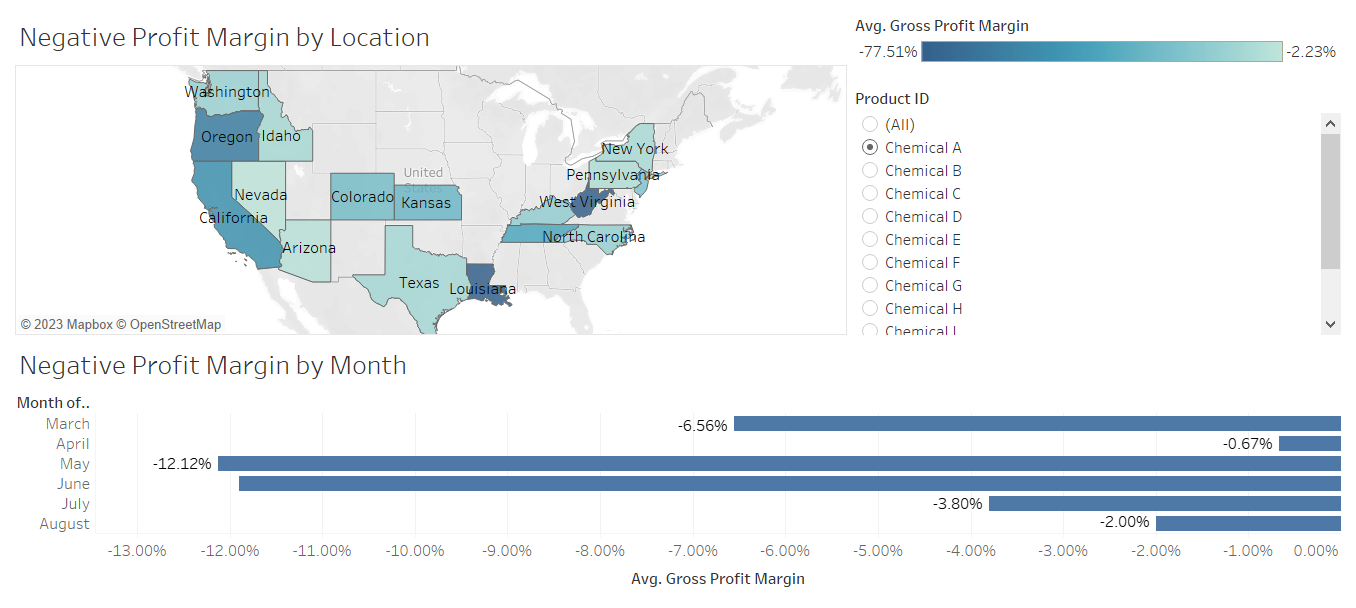

What the dashboard file says about the page in this screenshot:
{"tool":"tableau","page":{"name":"Negative Profit Margin","canvas":[1000,1000],"units":"permille","ordinal":3},"visuals":[{"type":"worksheet","title":"Negative Profit Margin by Location","mark":"Automatic","box":[6.3,14.1,660.4,537.9]},{"type":"legend","title":"Negative Profit Margin by Location","param":"[federated.10osk8j0nwherq13hjfzk0k1x9g8].[avg:Calculation_2090655439942512697:qk","box":[666.7,14.1,327,119.9]},{"type":"filter","title":"Negative Profit Margin by Location","param":"[federated.10osk8j0nwherq13hjfzk0k1x9g8].[none:Product ID:nk]","box":[666.7,134,327,418]},{"type":"worksheet","title":"Negative Profit Margin by Month","mark":"Bar","rows":["Date"],"cols":["Calculation_2090655439942512697"],"box":[6.3,552,987.4,433.9]}]}

Visuals, with their boxes on the dashboard's canvas, which has no fixed pixel size, in thousandths of its width and height (x1, y1, x2, y2). These are canvas units, not pixel positions in the 1356x608 screenshot, which may show the page scaled, cropped or inside an application window:
"Negative Profit Margin by Location" worksheet: left=6, top=14, right=667, bottom=552
"Negative Profit Margin by Location" legend: left=667, top=14, right=994, bottom=134
"Negative Profit Margin by Location" filter: left=667, top=134, right=994, bottom=552
"Negative Profit Margin by Month" worksheet (Bar marks): left=6, top=552, right=994, bottom=986
